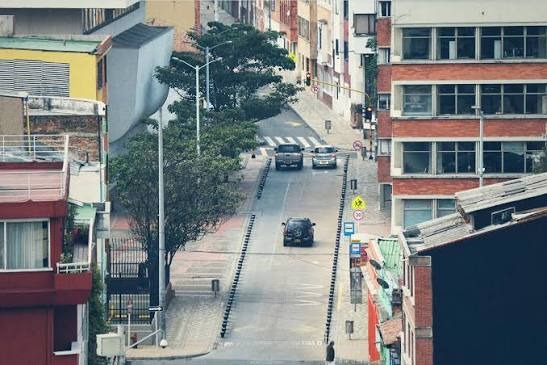car: (270, 141, 312, 170), (279, 216, 314, 247)
